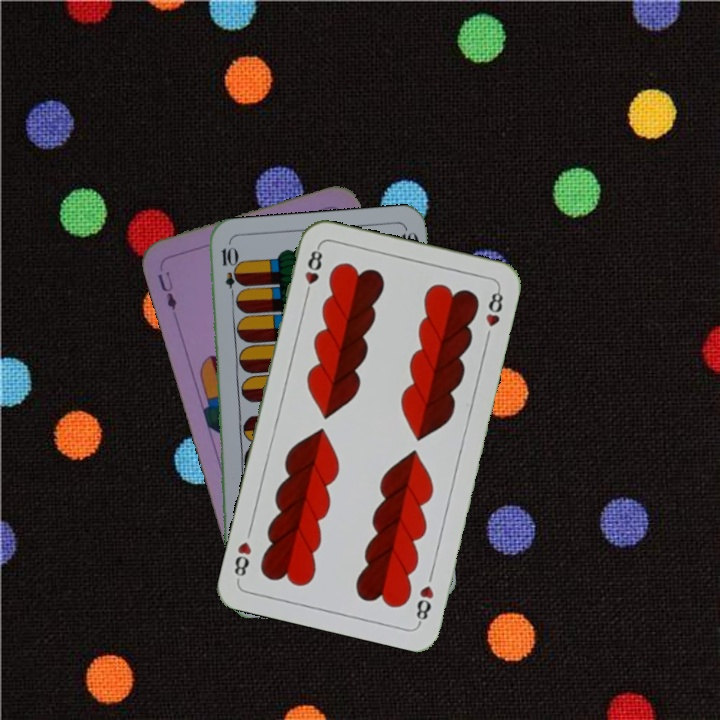E10: (217, 243, 239, 302)
EU: (153, 269, 180, 313)
H8: (300, 243, 325, 302), (412, 581, 437, 626)
